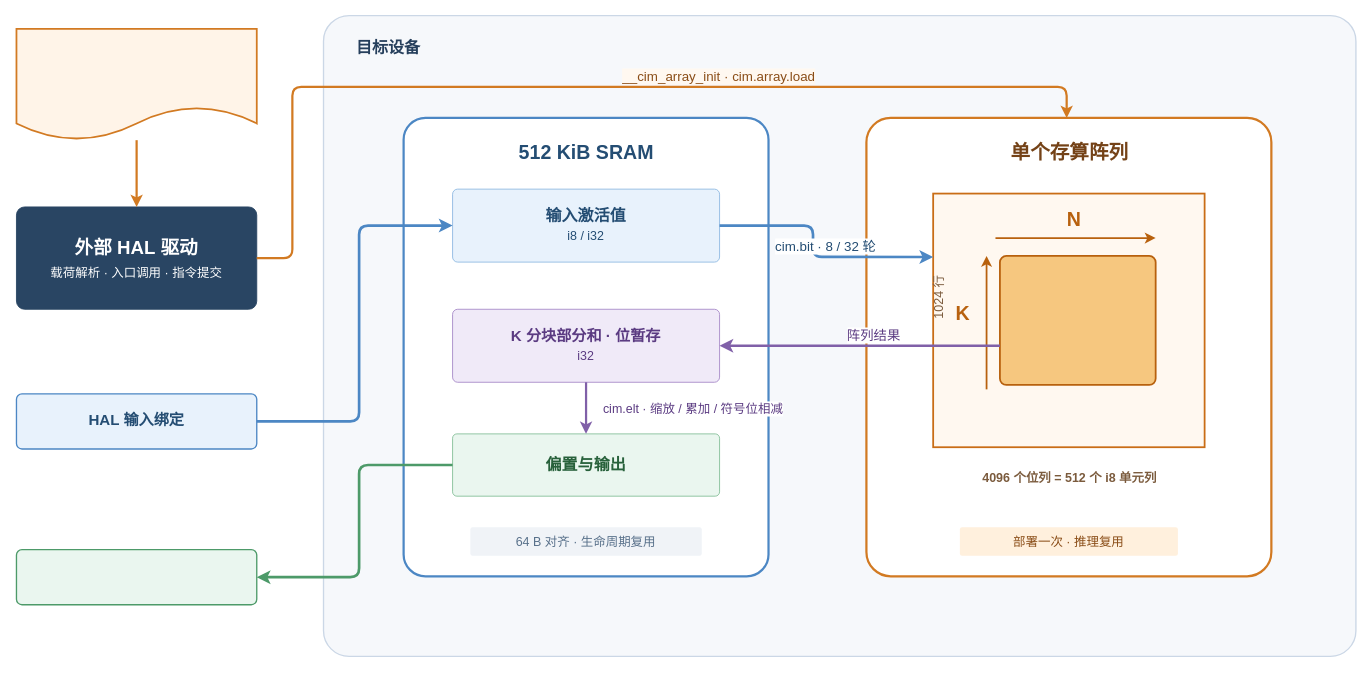
The diagram is 1371 pixels wide and 673 high, and some of its shapes have lost their labels. Here are the shapes that lost their labels. From the top down, the centre of each, then its label:
At point 136,84: "VMFB IREE VM 程序 · CIM 载荷".
At point 1077,320: "常驻 i8 权重矩形 [K,N]".
At point 136,577: "HAL 输出绑定".
